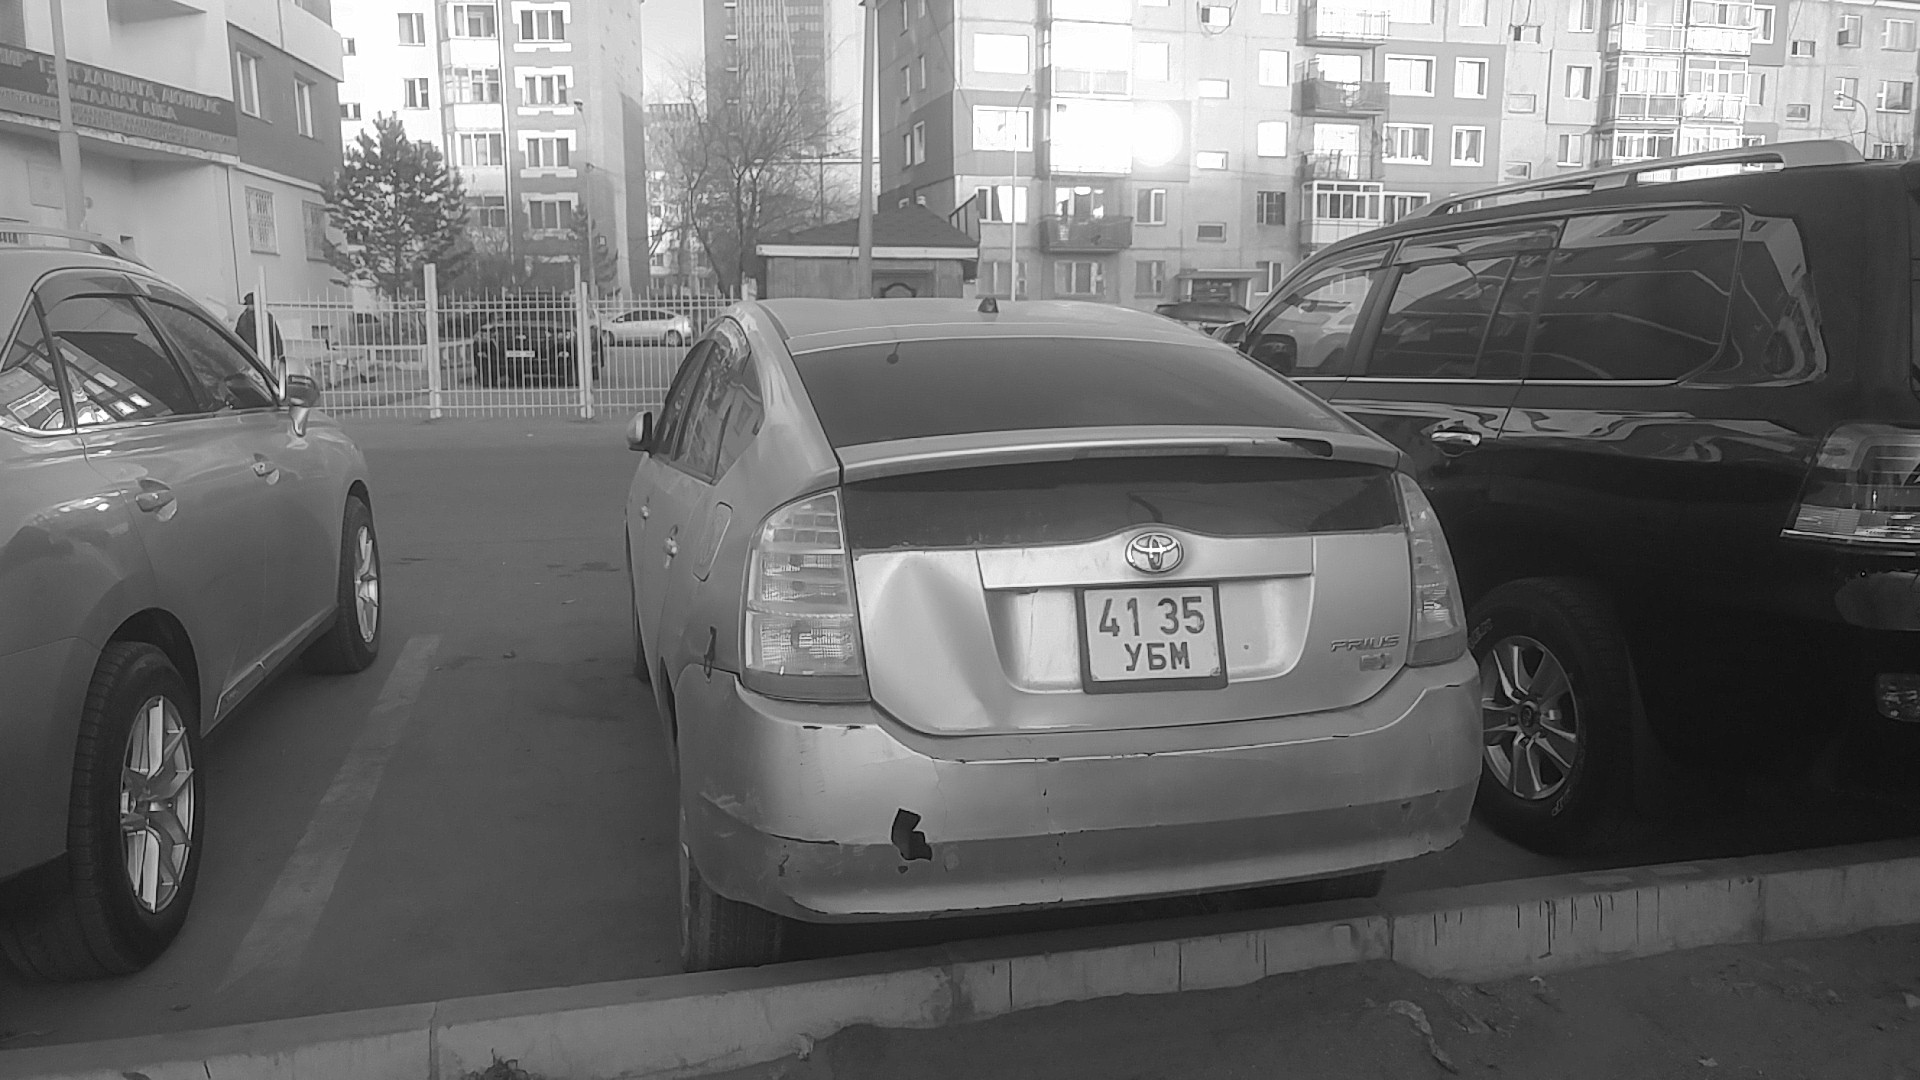1: (1126, 596, 1142, 635)
3: (1156, 597, 1180, 635)
4: (1099, 598, 1121, 637)
5: (1181, 595, 1206, 634)
b: (1147, 641, 1167, 671)
m: (1169, 640, 1191, 670)
plate: (1075, 578, 1231, 694)
u: (1125, 642, 1143, 671)
